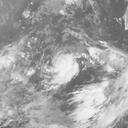cyclone: (50, 52, 81, 83)
